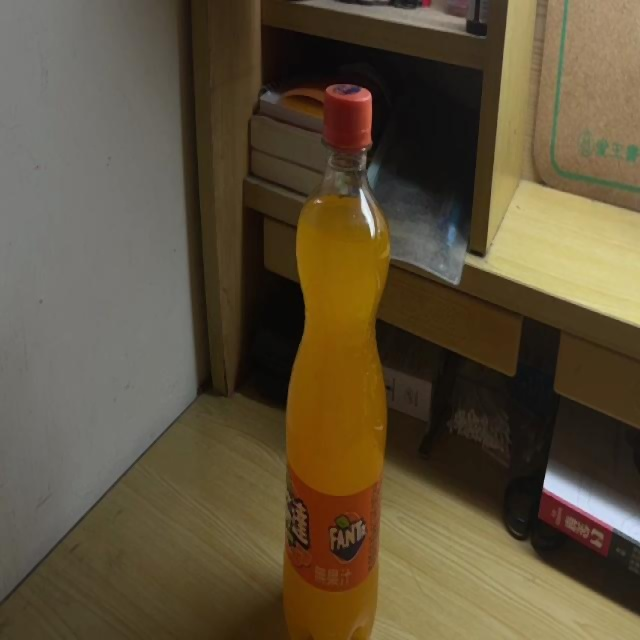Fanta: (287, 84, 389, 640)
